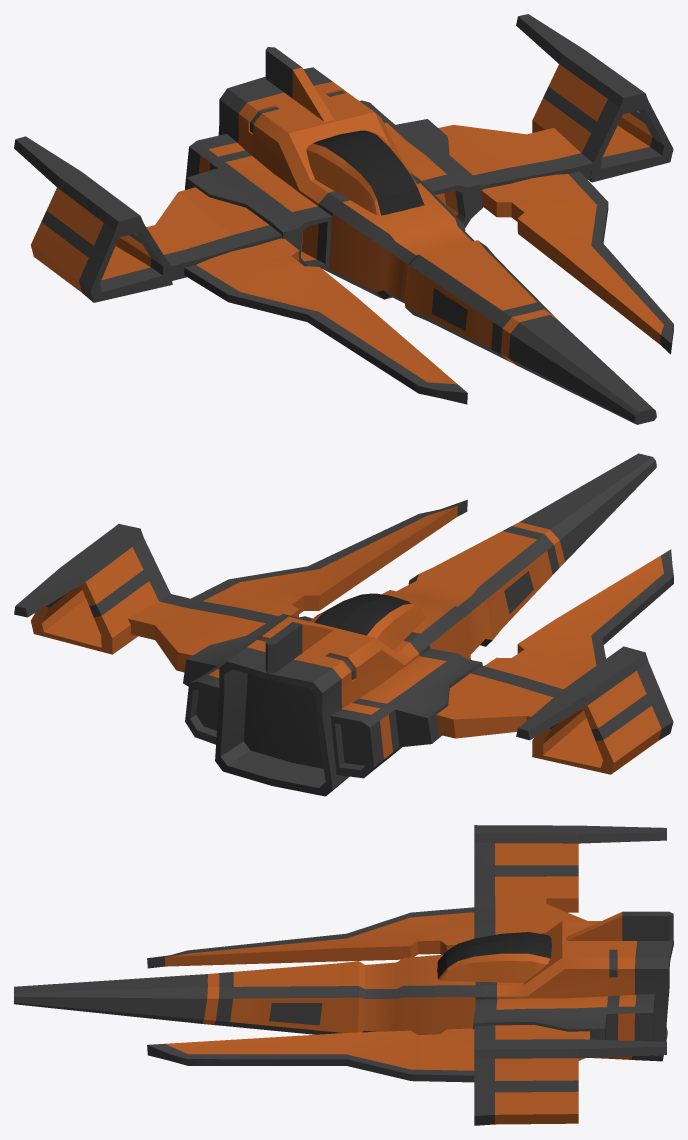
The model's file is spaceship.glb.
3 renders of one model, top to bottom at view 1: azimuth 30°, elevation 25°; view 2: azimuth 150°, elevation 25°; view 3: azimuth 270°, elevation 25°, orthographic. The views are drawn at different scales.
Visible parts, largest first — view 1: Spaceship_RaeTheRedPanda; view 2: Spaceship_RaeTheRedPanda; view 3: Spaceship_RaeTheRedPanda.
Boxes of the visible parts, x1,y1,x2,y2 form: Spaceship_RaeTheRedPanda: (14,14,673,424); Spaceship_RaeTheRedPanda: (14,453,673,796); Spaceship_RaeTheRedPanda: (14,825,673,1125).
Size of the model in its own units: 9.95 by 2.35 by 11.17.
1 material, 1 textured.
